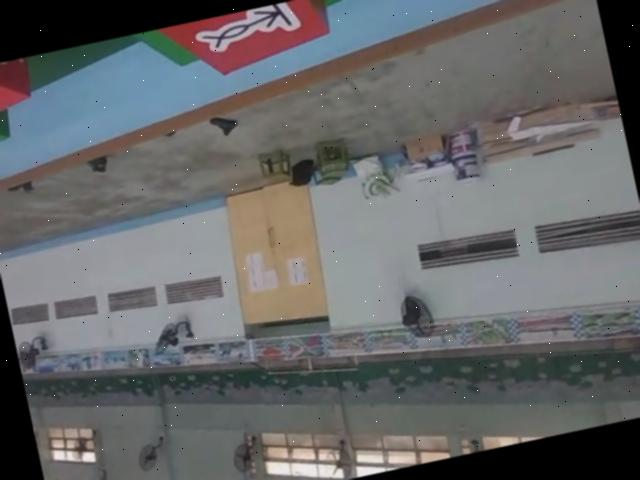R1: (0, 57, 38, 125)
R2 Real: (145, 0, 336, 98)
